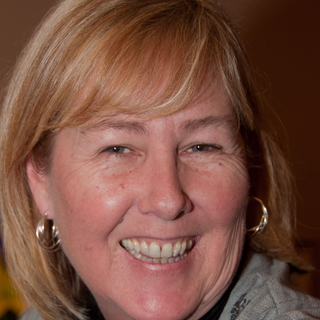eye: (93, 139, 141, 163), (179, 136, 225, 161)
